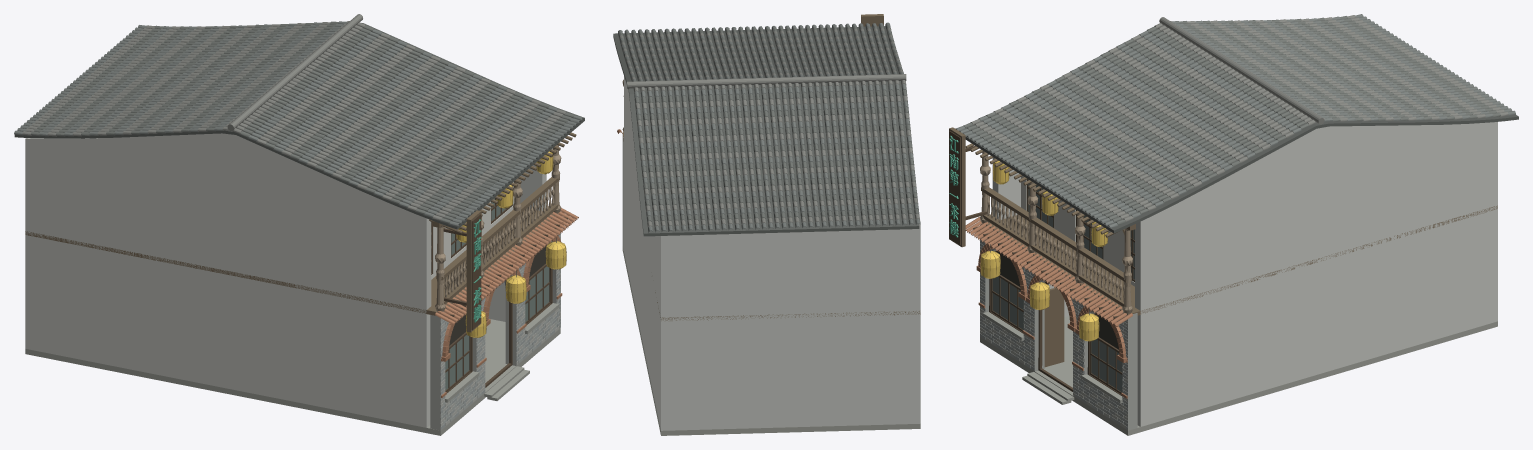
File: qingpu-beidajie-208-212-lod.glb
3 renders of one model, left to right at view 1: azimuth 30°, elevation 25°; view 2: azimuth 150°, elevation 25°; view 3: azimuth 270°, elevation 25°, orthographic. The views are drawn at different scales.
Bounding box in the file's own units: 14.01 × 8.19 × 15.75.
